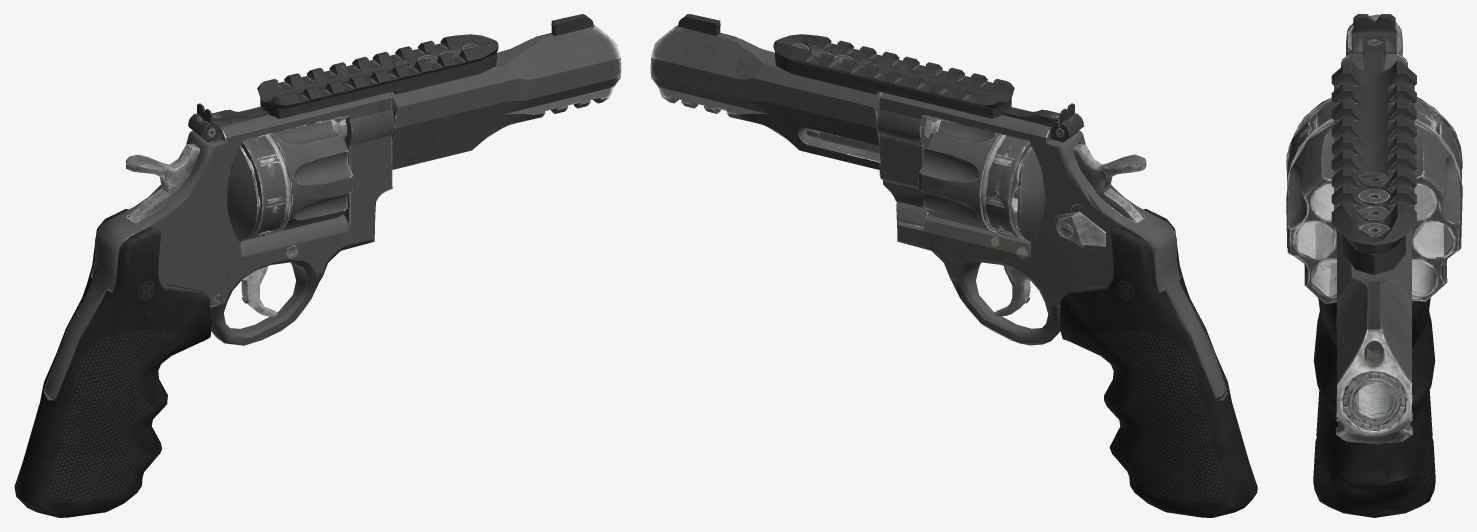
The model's file is revolver_high.glb.
3 renders of one model, left to right at view 1: azimuth 30°, elevation 25°; view 2: azimuth 150°, elevation 25°; view 3: azimuth 270°, elevation 25°, orthographic. The views are drawn at different scales.
Visible parts, largest first — view 1: body, cylinder; view 2: body, cylinder; view 3: body, cylinder.
Boxes of the visible parts, x1,y1,x2,y2 form: body: (14,14,621,517); cylinder: (241,120,353,239); body: (650,14,1257,517); cylinder: (918,120,1030,239); body: (1286,14,1462,517); cylinder: (1286,100,1462,303).
Bounding box in the file's own units: 0.2899 × 0.1755 × 0.0482.
Materials: 1 (1 with a texture image).
